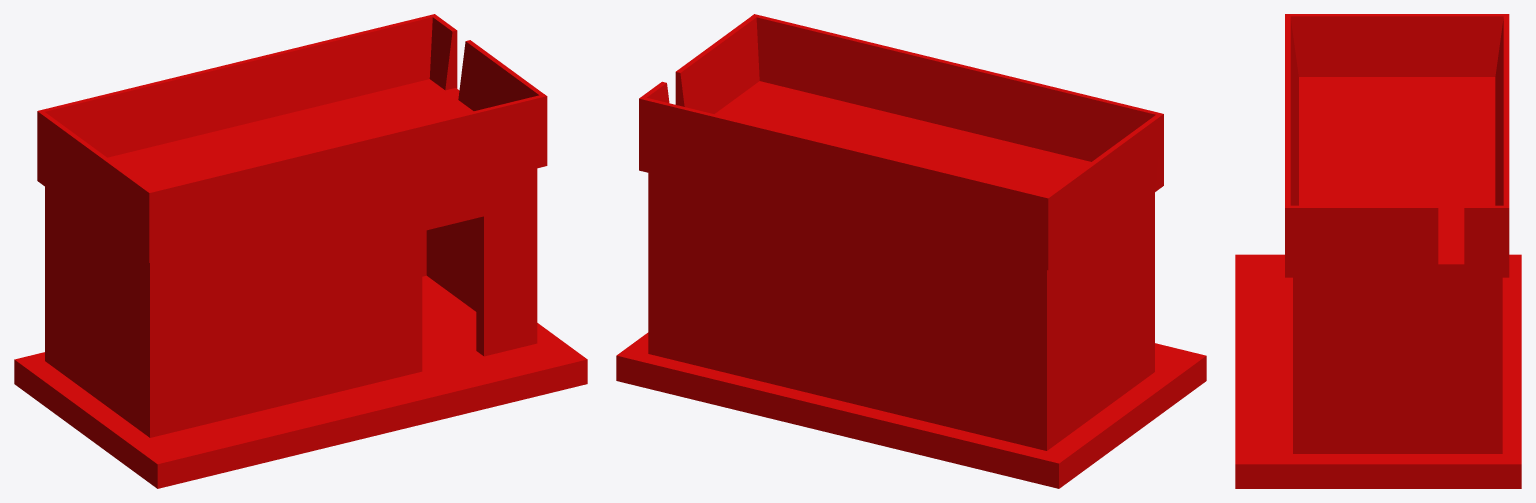
Rendered from SM_Bld_Industrial_Small_01_Collision.fbx.
3 views of the same model, side by side, from view 1: azimuth 30°, elevation 25°; view 2: azimuth 150°, elevation 25°; view 3: azimuth 270°, elevation 25° (orthographic). The views are drawn at different scales.
Visible parts, largest first — view 1: SM_Bld_Industrial_Small_01_Collision; view 2: SM_Bld_Industrial_Small_01_Collision; view 3: SM_Bld_Industrial_Small_01_Collision.
Boxes of the visible parts, box(x1,y1,x2,y2) form: SM_Bld_Industrial_Small_01_Collision: box(14, 14, 587, 488); SM_Bld_Industrial_Small_01_Collision: box(616, 14, 1206, 488); SM_Bld_Industrial_Small_01_Collision: box(1235, 14, 1521, 488).
Size of the model in its own units: 715 by 435 by 412.
